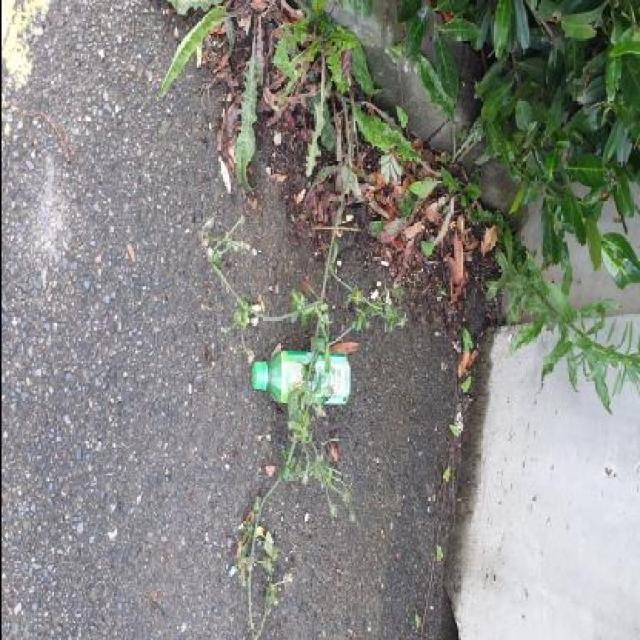plastic: (251, 350, 349, 405)
